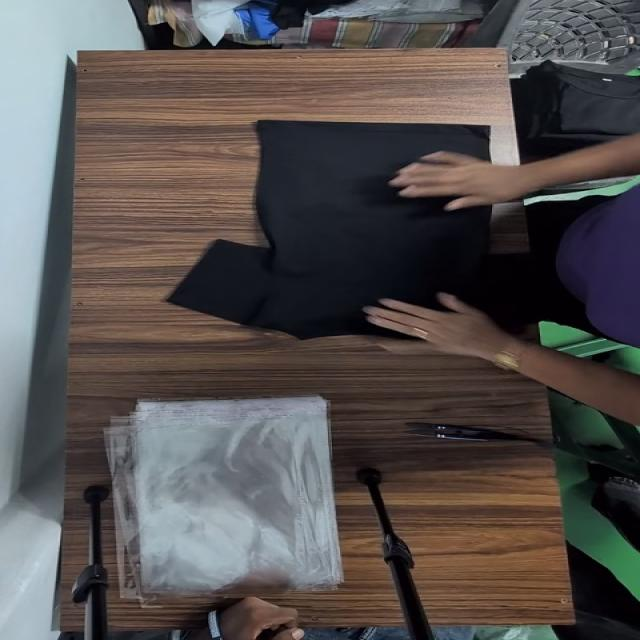new-garment: (169, 120, 491, 338)
